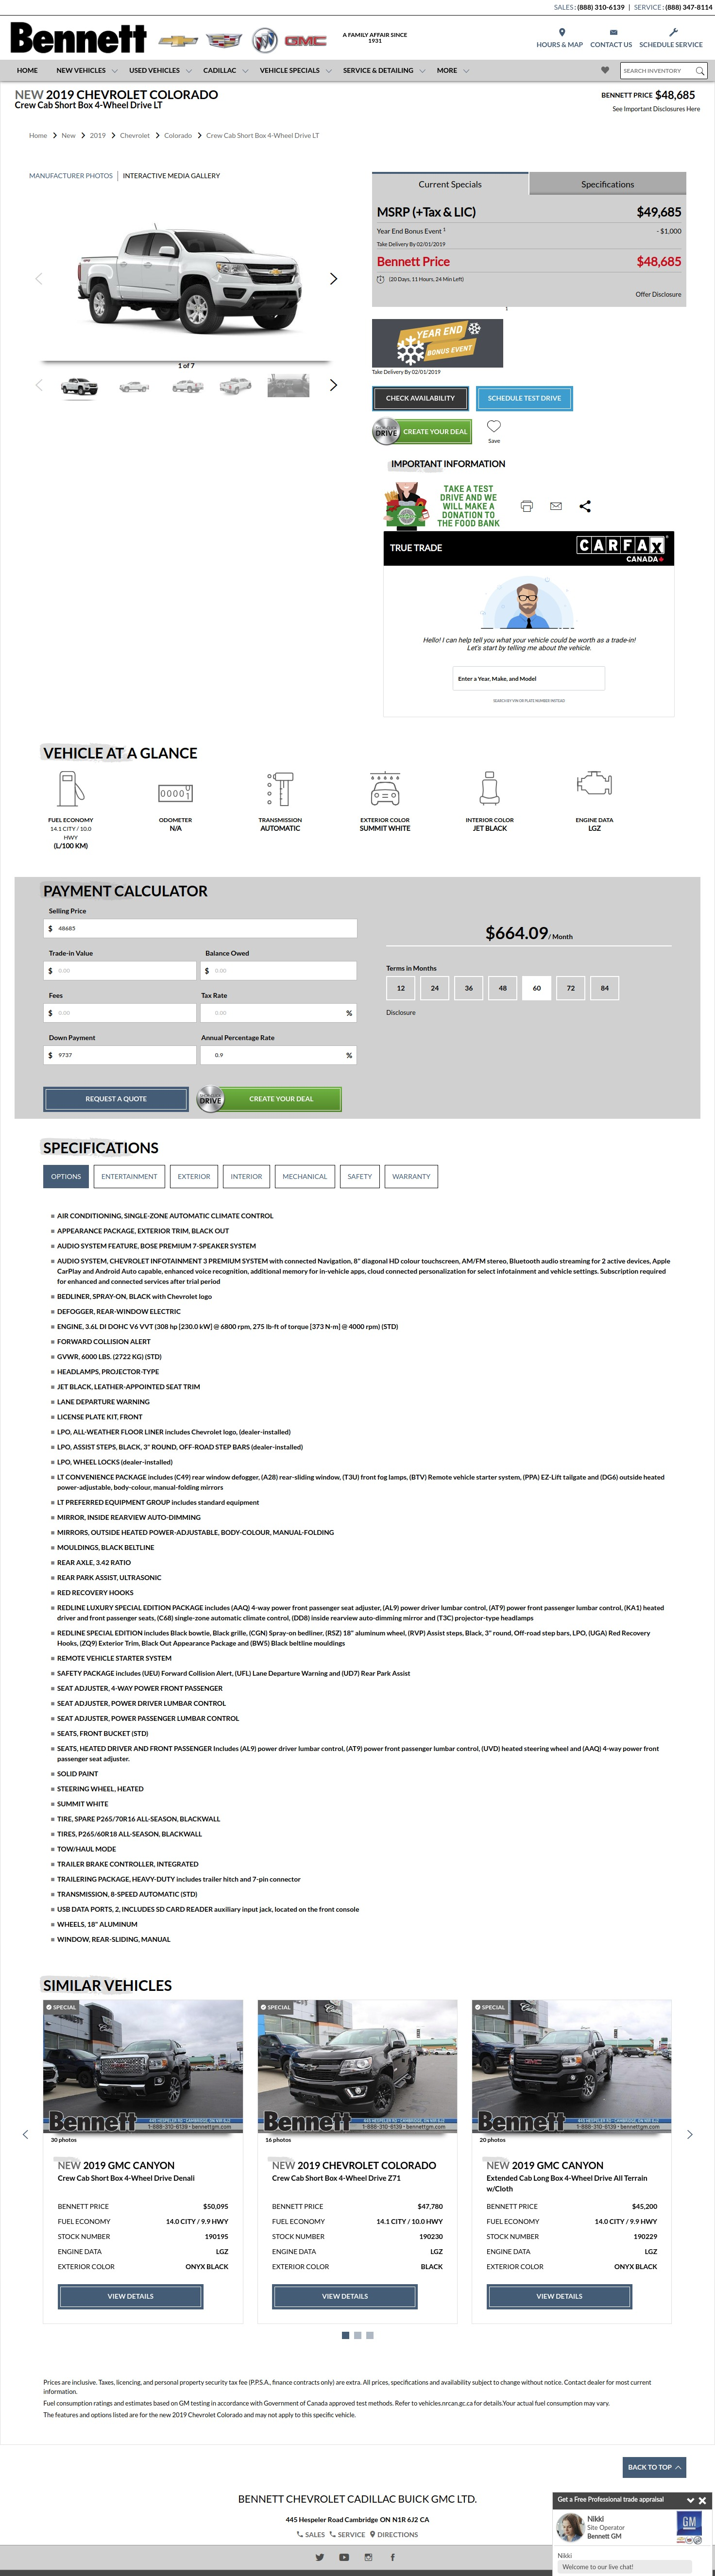car: (330, 379, 339, 393)
